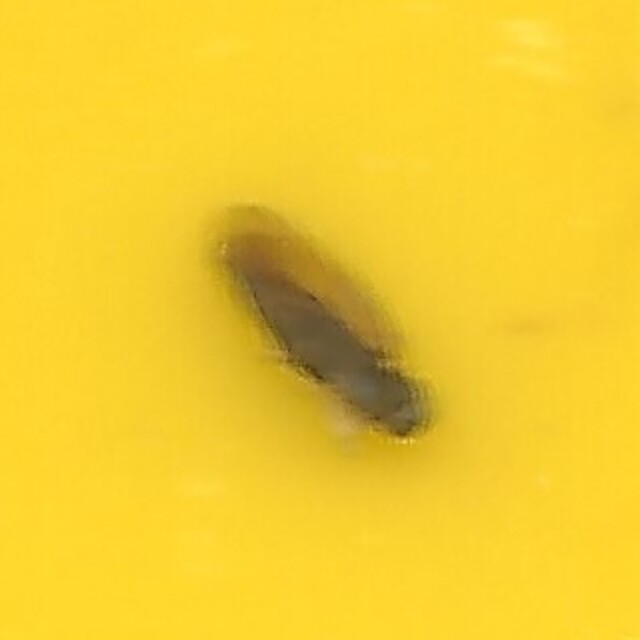Hemiptera: (200, 203, 440, 437)
